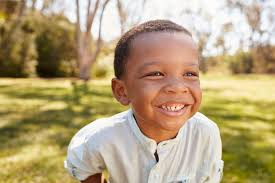person: (111, 18, 203, 133)
